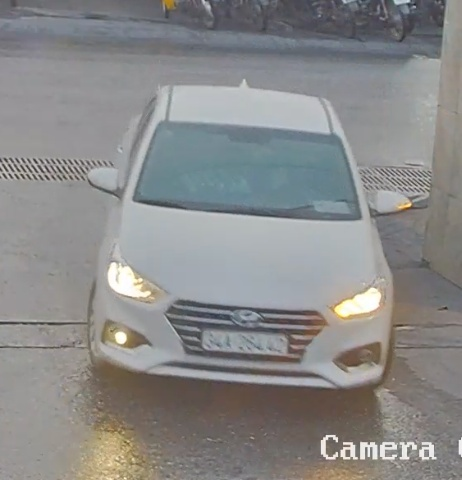vehicle plate: (202, 322, 295, 359)
